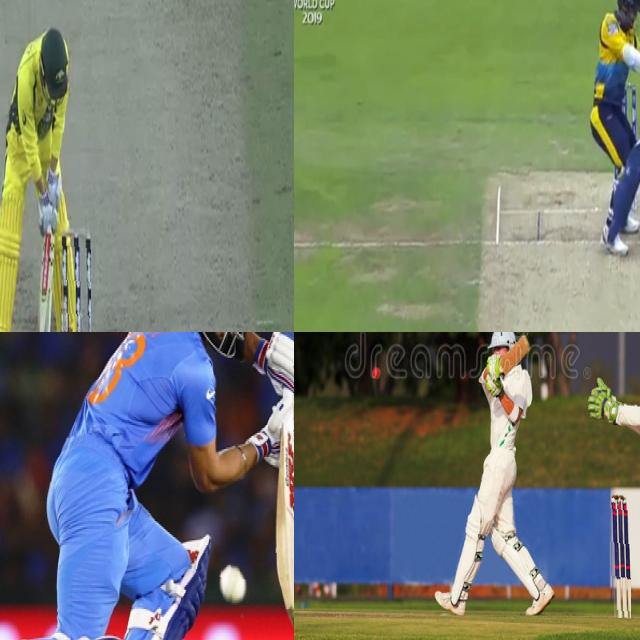Cricket ball: (217, 560, 249, 606), (371, 366, 381, 382)
Stumps: (60, 228, 91, 332), (609, 491, 631, 623)
